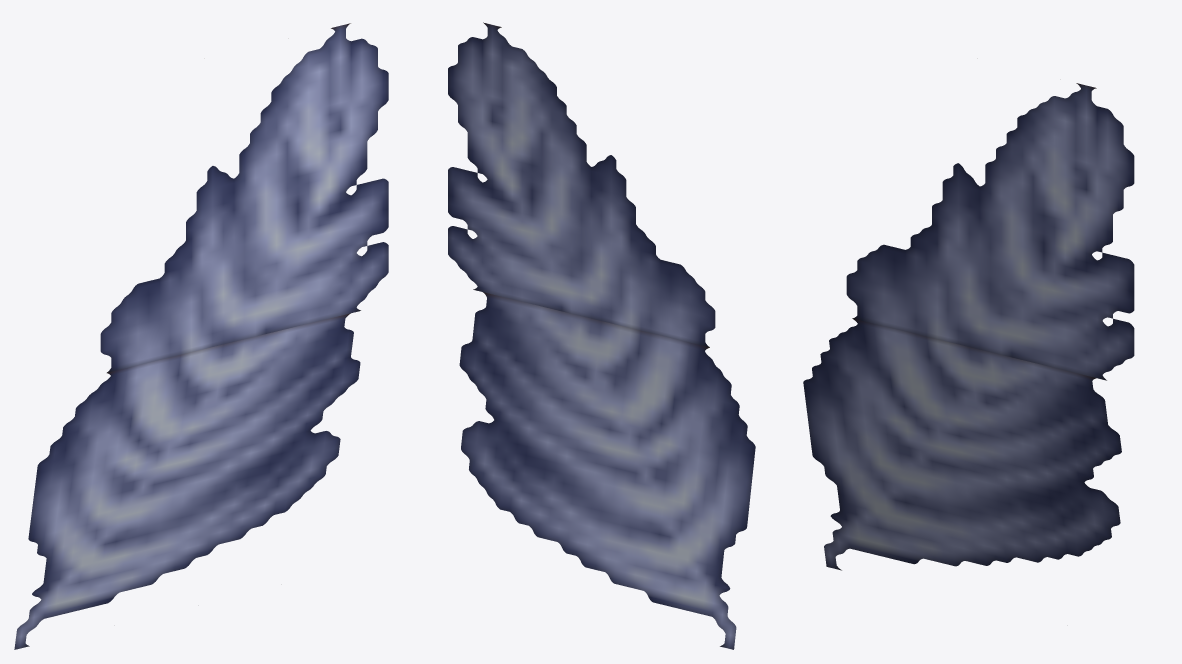
3 renders of one model, left to right at view 1: azimuth 30°, elevation 25°; view 2: azimuth 150°, elevation 25°; view 3: azimuth 330°, elevation 25°, orthographic. The views are drawn at different scales.
Visible parts, largest first — view 1: T1L1M008_5; view 2: T1L1M008_5; view 3: T1L1M008_5.
Boxes of the visible parts, box(x1,y1,x2,y2) form: T1L1M008_5: box(14, 23, 388, 649); T1L1M008_5: box(448, 22, 755, 649); T1L1M008_5: box(803, 83, 1134, 570).
Size of the model in its own units: 0.1045 by 0.1689 by 0.0176.
